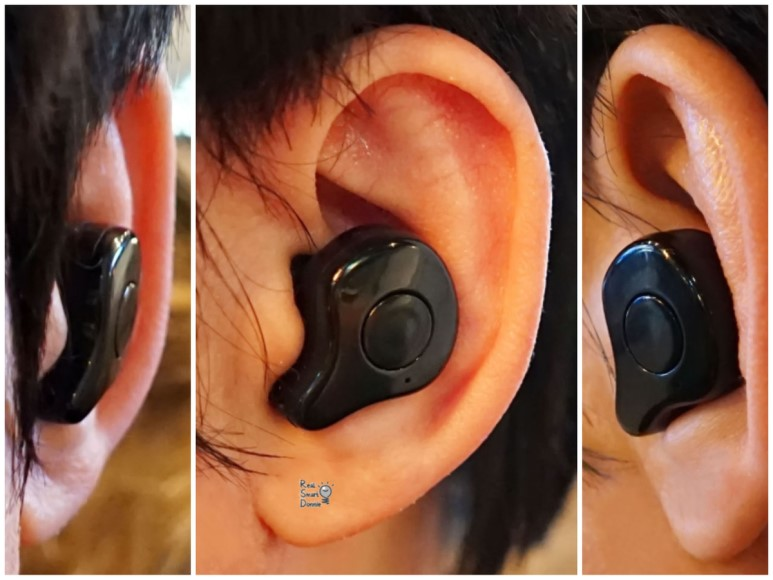earphone: (261, 23, 552, 547), (589, 24, 767, 562), (25, 51, 174, 547)
